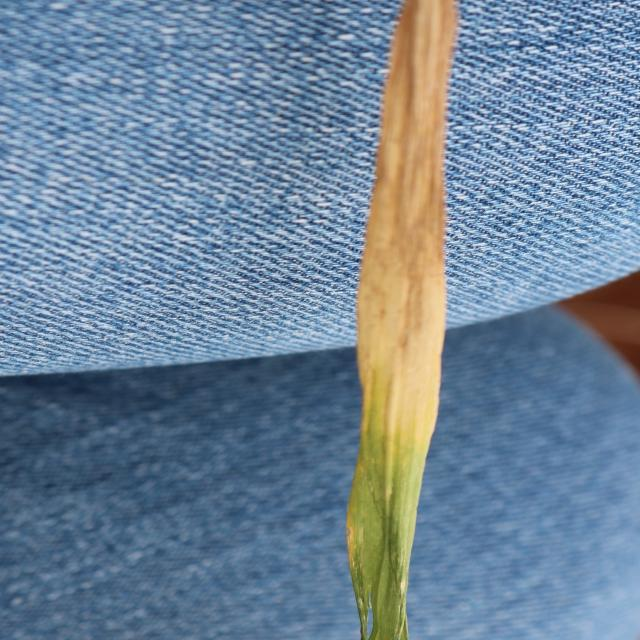Septoria: (344, 1, 459, 637)
